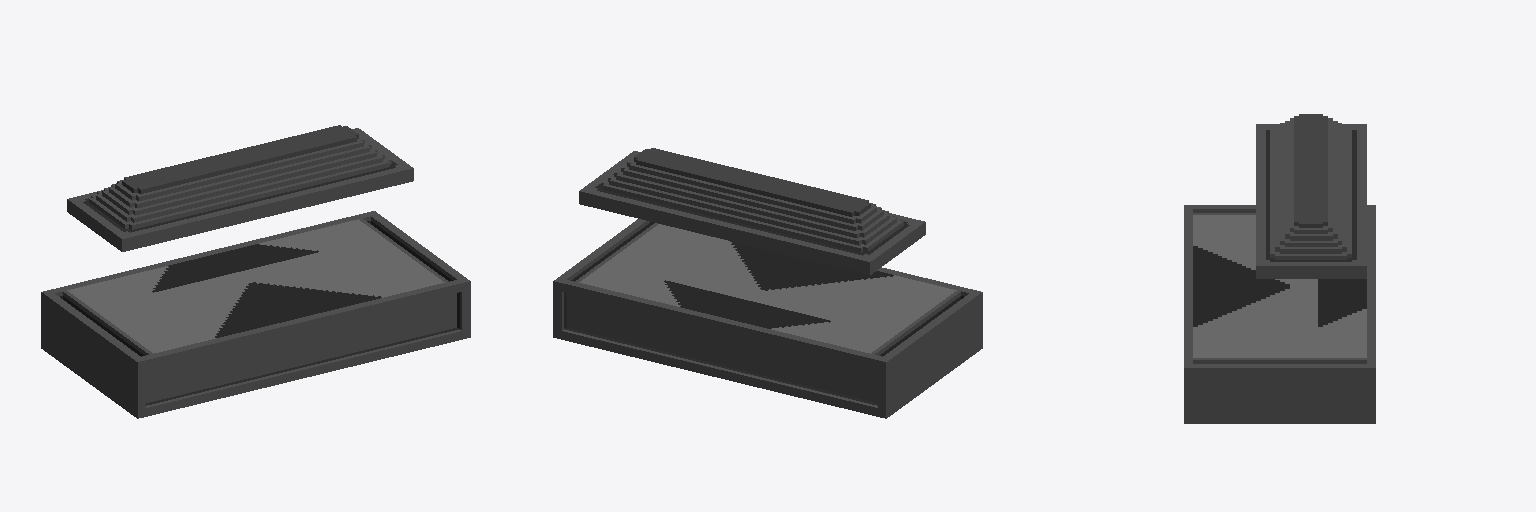
3 views of the same model, side by side, from view 1: azimuth 30°, elevation 25°; view 2: azimuth 150°, elevation 25°; view 3: azimuth 270°, elevation 25° (orthographic).
Parts seen in each view (by area): view 1: object 1; view 2: object 1; view 3: object 1.
Boxes of the visible parts, box(x1,y1,x2,y2) form: object 1: box(41, 125, 470, 418); object 1: box(553, 148, 982, 418); object 1: box(1184, 114, 1375, 423).
Bounding box in the file's own units: 8 × 4 × 4.
Materials: 1 (1 with a texture image).